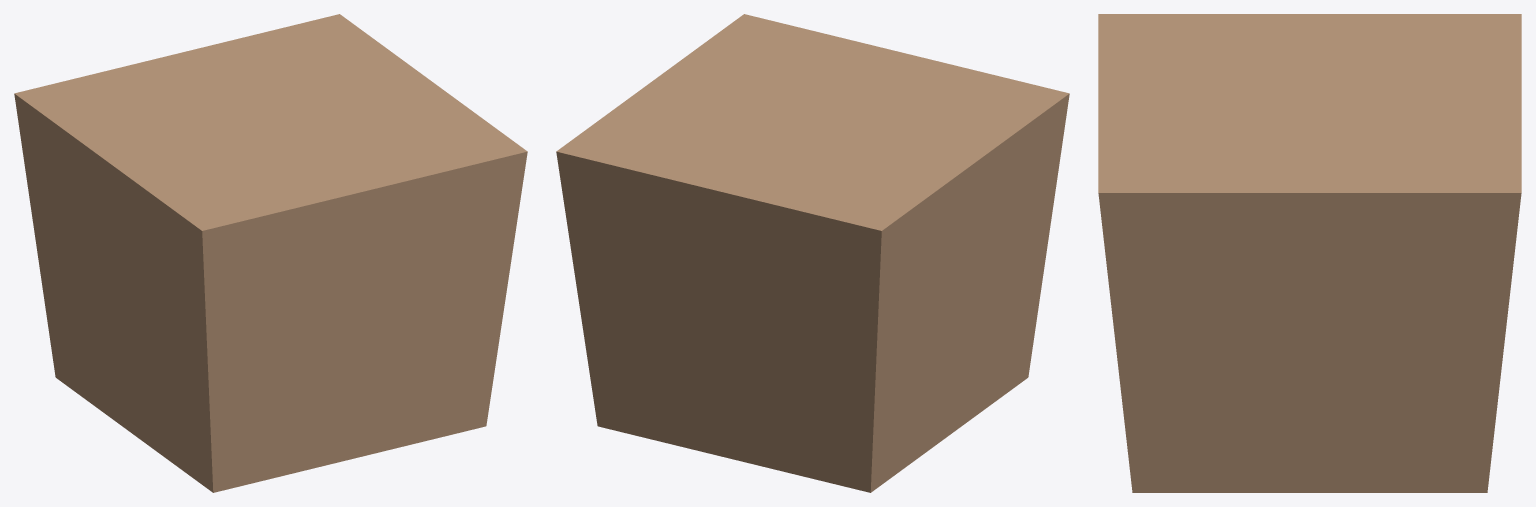
File: LiquidWater.fbx
3 renders of one model, left to right at view 1: azimuth 30°, elevation 25°; view 2: azimuth 150°, elevation 25°; view 3: azimuth 270°, elevation 25°, orthographic. The views are drawn at different scales.
Parts seen in each view (by area): view 1: CoffeeMaker_glass_001; view 2: CoffeeMaker_glass_001; view 3: CoffeeMaker_glass_001.
Part boxes in pixels (left/top/right/bottom): CoffeeMaker_glass_001: left=14, top=14, right=527, bottom=492; CoffeeMaker_glass_001: left=556, top=14, right=1069, bottom=492; CoffeeMaker_glass_001: left=1098, top=14, right=1521, bottom=492.
Bounding box in the file's own units: 31.62 × 25.93 × 31.62.
1 material, 1 textured.
